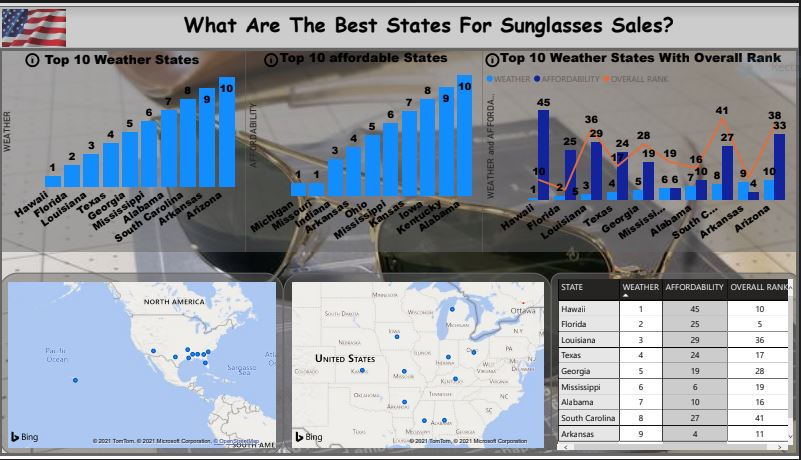

Layout of this report page (visuals, bound fields, positions):
{"tool":"powerbi","page":{"name":"Best States For Sunglasses Sales","canvas":[1280,720],"ordinal":0},"visuals":[{"type":"image","box":[0,68.2,1280,651.5],"z":0},{"type":"image","box":[0,0,110.9,71],"z":1000},{"type":"textbox","box":[0,0,1280,68.1],"z":2000},{"type":"columnChart","title":"Top 10 Weather States","fields":{"Y":["Sum(Best States For SunGlasses.WEATHER)"],"Category":["Best States For SunGlasses.STATE"]},"box":[0,71.1,394,322.9],"z":3000},{"type":"columnChart","title":"Top 10 affordable States","fields":{"Category":["Best States For SunGlasses.STATE"],"Y":["Sum(Best States For SunGlasses.AFFORDABILITY)"]},"box":[394,68.2,379.6,325.8],"z":4000},{"type":"lineClusteredColumnComboChart","title":"Top 10 Weather States With Overall Rank","fields":{"Category":["Best States For SunGlasses.STATE"],"Y":["Sum(Best States For SunGlasses.WEATHER)","Sum(Best States For SunGlasses.AFFORDABILITY)"],"Y2":["Sum(Best States For SunGlasses.OVERALL RANK)"]},"box":[773.6,68.2,506.4,325.8],"z":5000},{"type":"tableEx","title":"Top 10 Weather States","fields":{"Values":["Best States For SunGlasses.STATE","Best States For SunGlasses.WEATHER","Best States For SunGlasses.AFFORDABILITY","Best States For SunGlasses.OVERALL RANK"]},"box":[883.1,426.7,396.9,293.1],"z":6000},{"type":"map","title":"Top 10 affordable States","fields":{"Category":["Best States For SunGlasses.STATE"]},"box":[454.5,426.7,428.6,293.1],"z":7000},{"type":"map","title":"Top 10 Weather States","fields":{"Category":["Best States For SunGlasses.STATE"]},"box":[0,426.7,454.5,293.1],"z":8000},{"type":"actionButton","box":[38.4,71.1,34.6,30.8],"z":9000},{"type":"actionButton","box":[419.9,71.1,34.6,30.8],"z":10000},{"type":"actionButton","box":[773.6,71.1,38.4,30.8],"z":11000}]}

Visuals, with their boxes in screenshot pixels (x1, y1, x2, y2), scaled from the page's 1280x720 canvas onto the 801x460 screenshot:
image: select_region(0, 44, 800, 459)
image: select_region(0, 0, 69, 45)
textbox: select_region(0, 0, 800, 44)
"Top 10 Weather States" columnChart: select_region(0, 45, 247, 252)
"Top 10 affordable States" columnChart: select_region(247, 44, 484, 252)
"Top 10 Weather States With Overall Rank" lineClusteredColumnComboChart: select_region(484, 44, 800, 252)
"Top 10 Weather States" tableEx: select_region(553, 273, 800, 459)
"Top 10 affordable States" map: select_region(284, 273, 553, 459)
"Top 10 Weather States" map: select_region(0, 273, 284, 459)
actionButton: select_region(24, 45, 46, 65)
actionButton: select_region(263, 45, 284, 65)
actionButton: select_region(484, 45, 508, 65)
